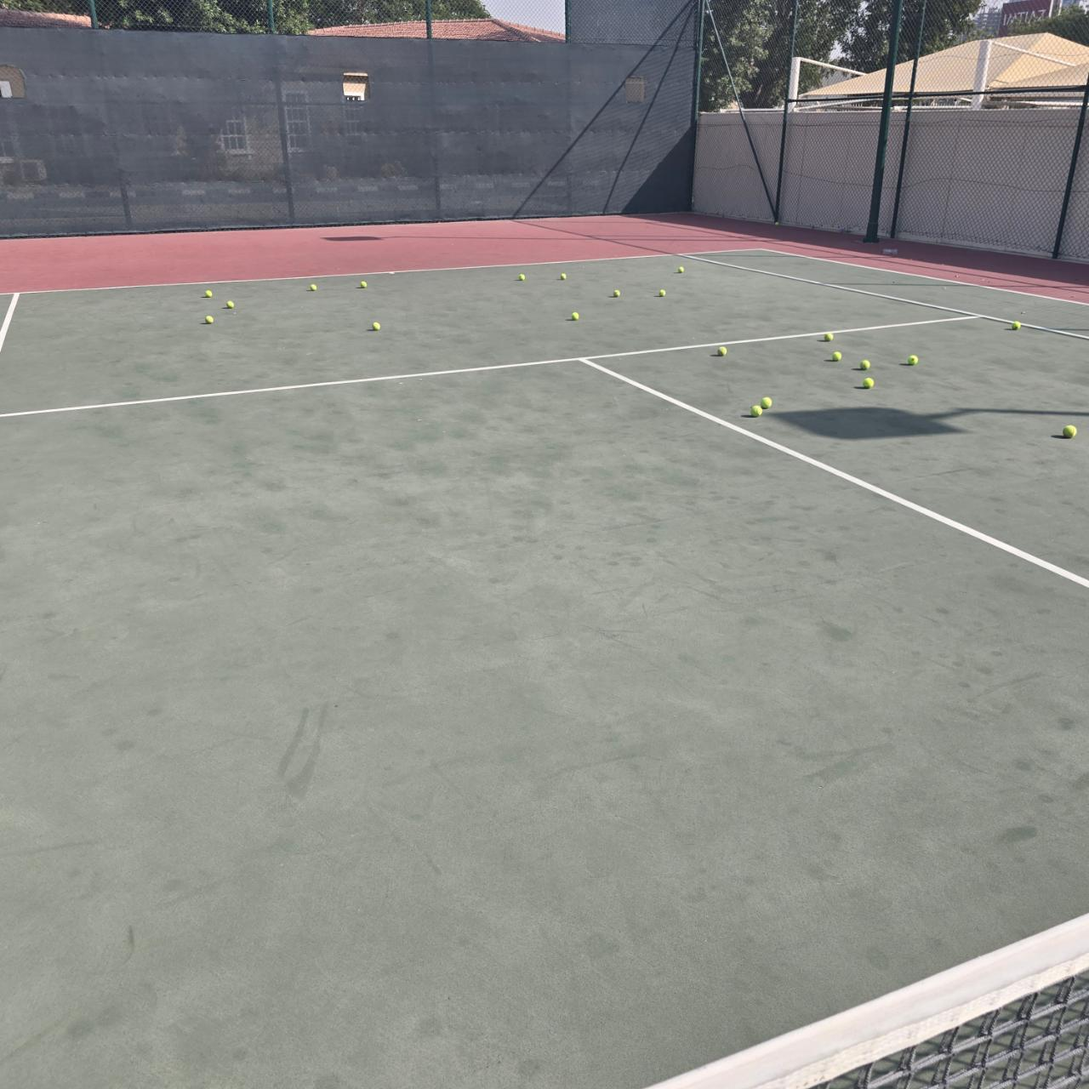tennis-ball: (1061, 422, 1076, 437), (759, 395, 773, 409), (749, 403, 761, 416), (862, 378, 875, 389), (716, 344, 727, 356), (907, 354, 918, 365), (832, 351, 842, 362), (860, 360, 871, 370), (371, 321, 381, 331), (205, 315, 214, 325), (1012, 321, 1022, 330), (225, 300, 234, 309), (824, 333, 833, 342), (204, 289, 212, 298), (571, 312, 579, 321), (658, 289, 666, 297), (613, 290, 620, 298), (310, 284, 317, 291), (360, 281, 367, 288), (519, 274, 525, 281), (678, 266, 684, 273), (560, 273, 566, 279), (775, 222, 778, 225)
